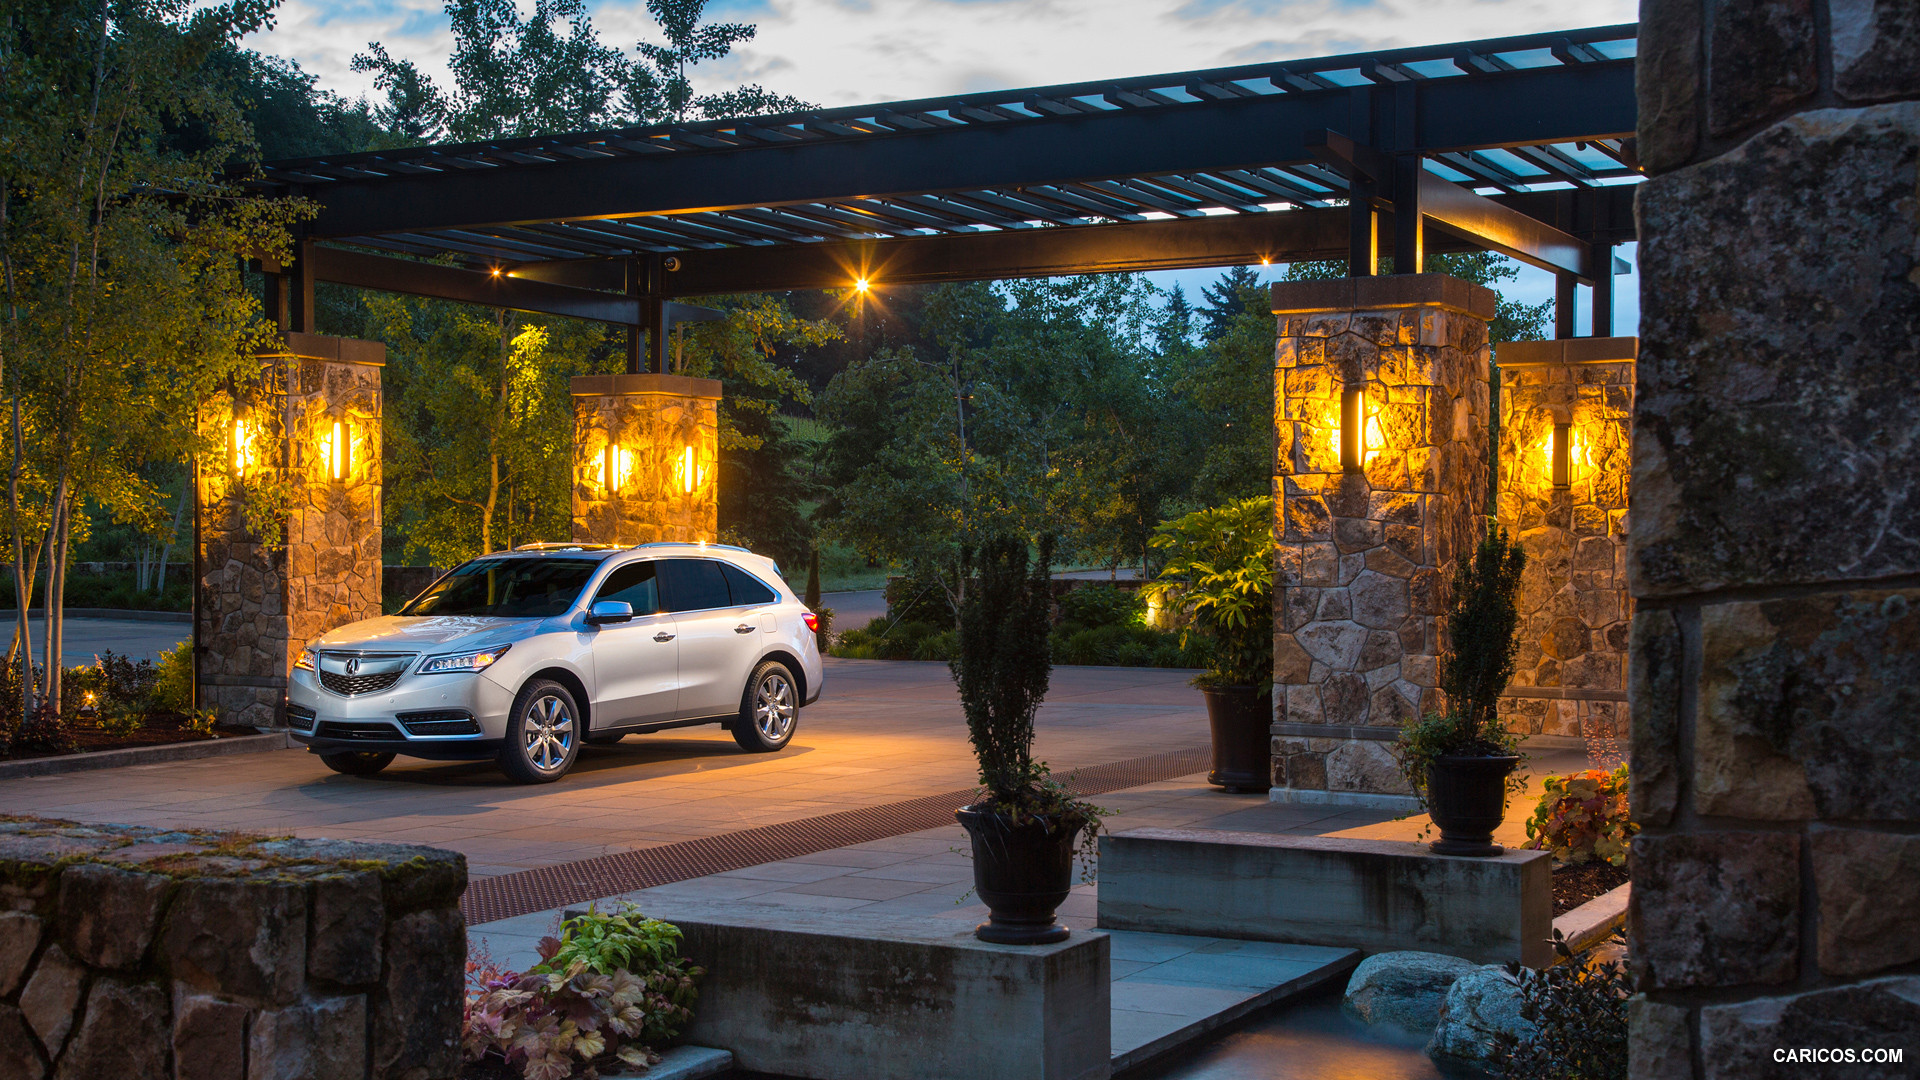Fog Lamp & Scope: (401, 711, 480, 738)
Front: (286, 621, 534, 742)
Front Bumper: (284, 703, 505, 748)
Grill: (313, 655, 414, 702)
Headlight: (413, 644, 506, 679)
